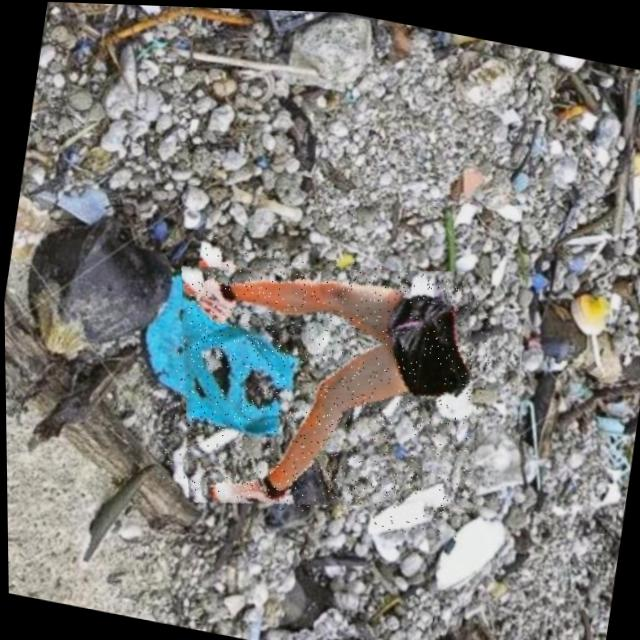Person in Rubble: (153, 227, 500, 542)
